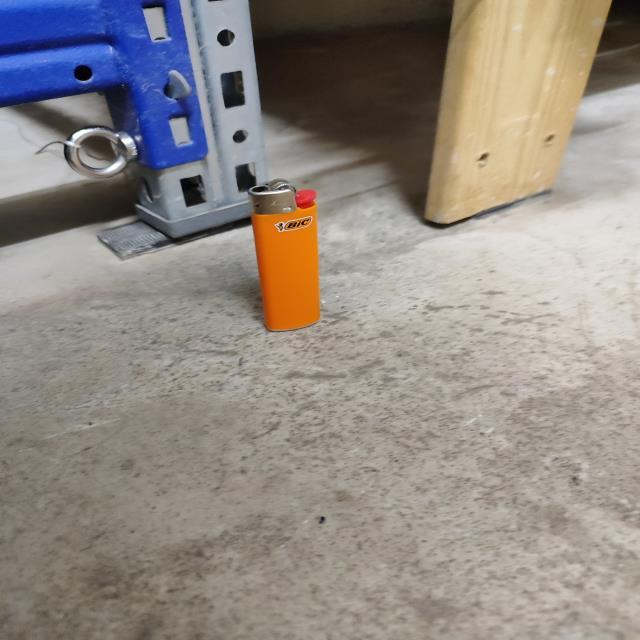lighter: (250, 180, 320, 331)
